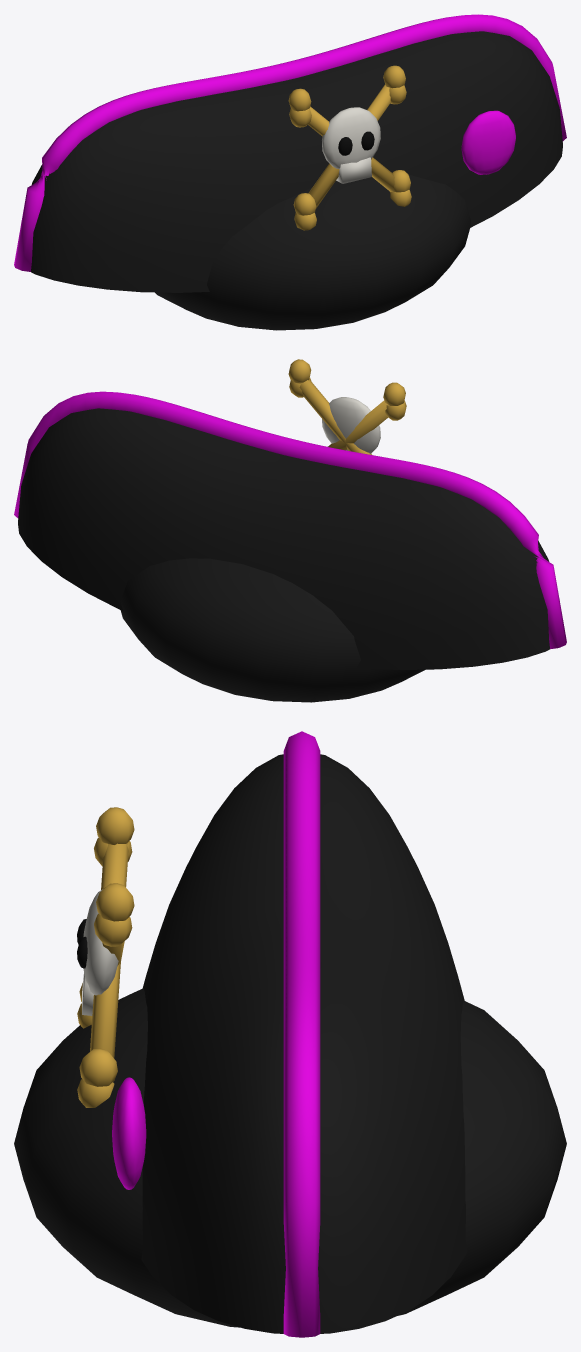
The model's file is hat_bicorne_male_hi.glb.
3 renders of one model, top to bottom at view 1: azimuth 30°, elevation 25°; view 2: azimuth 150°, elevation 25°; view 3: azimuth 270°, elevation 25°, orthographic. The views are drawn at different scales.
Parts seen in each view (by area): view 1: hat_bicorne_v5_male; view 2: hat_bicorne_v5_male; view 3: hat_bicorne_v5_male.
Boxes of the visible parts, x1=… form: hat_bicorne_v5_male: x1=14, y1=14, x2=566, y2=330; hat_bicorne_v5_male: x1=14, y1=359, x2=566, y2=702; hat_bicorne_v5_male: x1=14, y1=731, x2=566, y2=1337.
Size of the model in its own units: 1.14 by 0.5228 by 0.6016.
